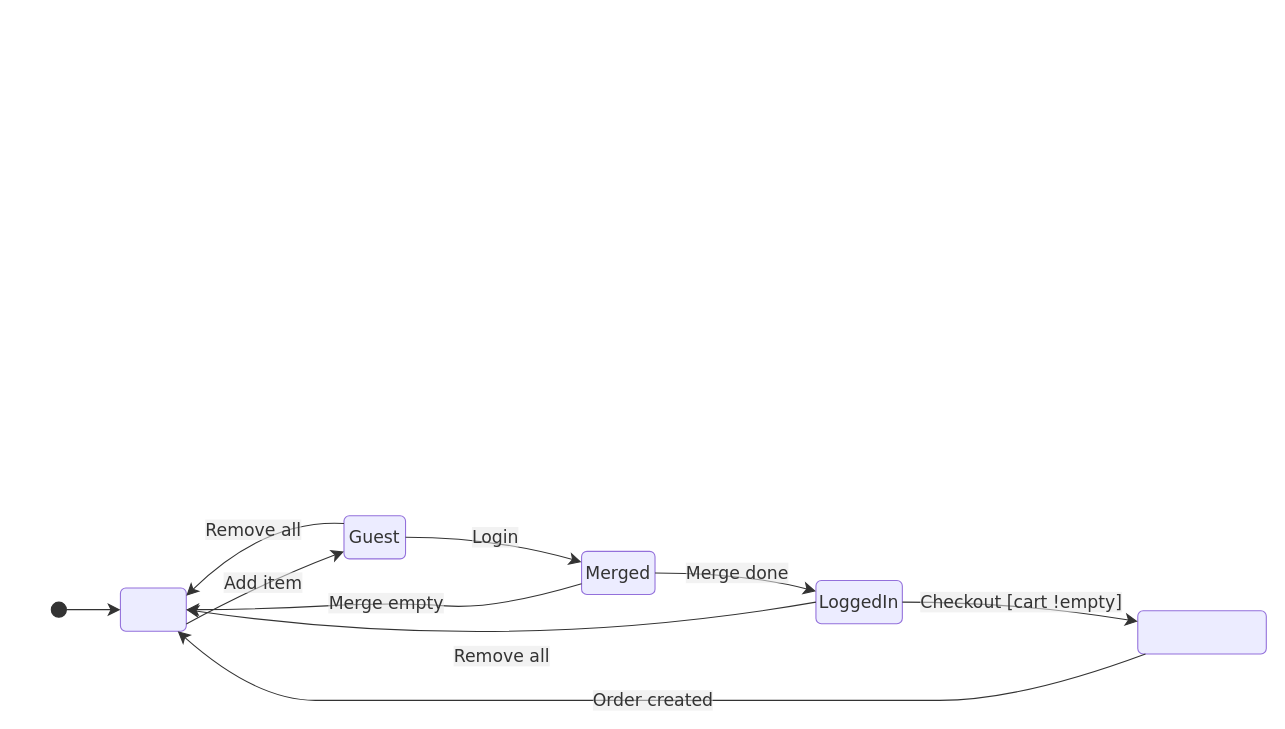
Some shapes in this 1285 by 729 pixel diagram are drawn without their labels. The box of each missing label's shape, as (x1, y1, x2, y2) in pixels:
CheckoutDone: (1137, 610, 1266, 654)
Empty: (119, 587, 186, 631)
